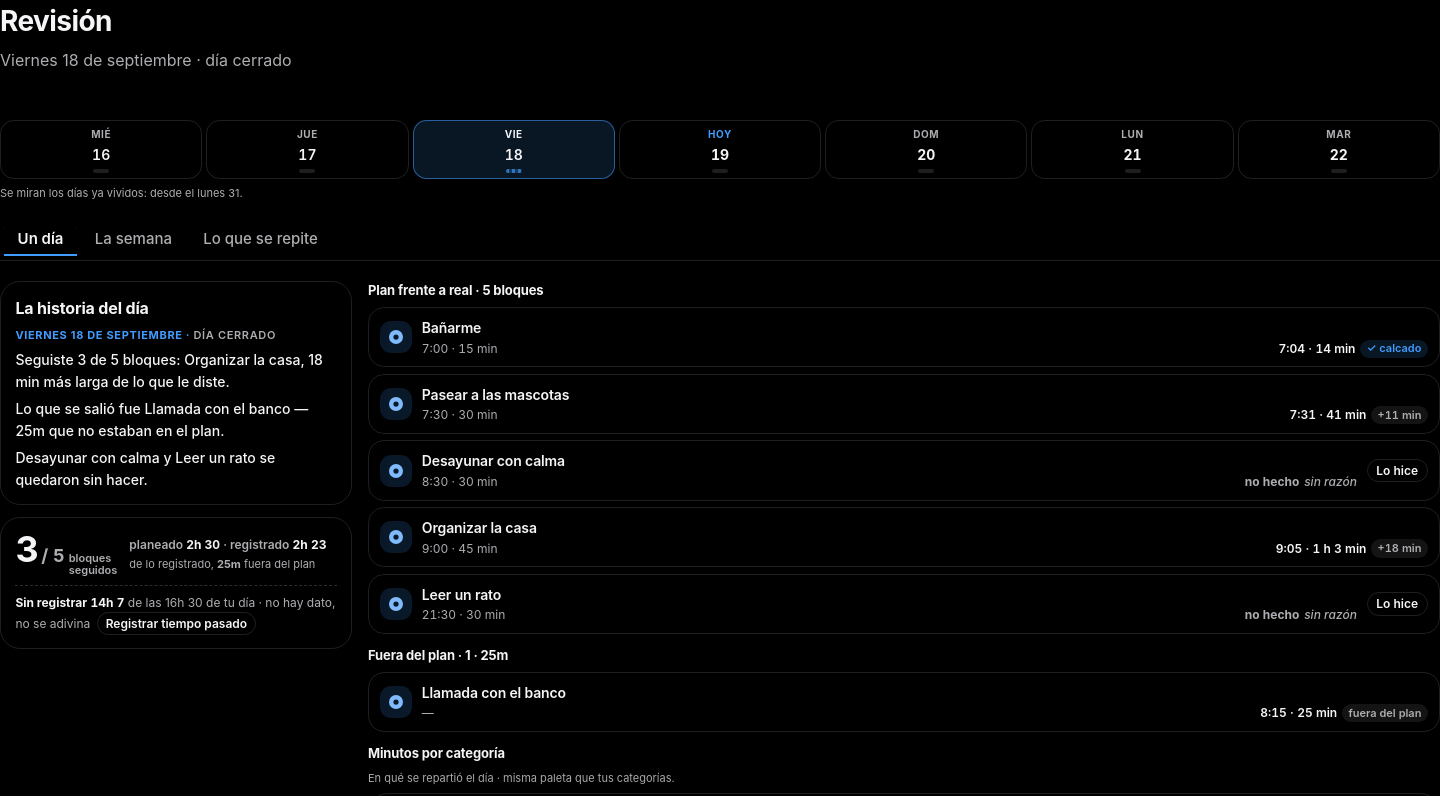
Test: la semana (criterios 45, 46, 47, 48, 49, 51 y 53) › cada fila lleva su titular, su barrita y «registrado de planeado», y **enlaza a ese día** (47, 49)
Click the tab "La semana" at (133, 239), box [81,221,186,256]
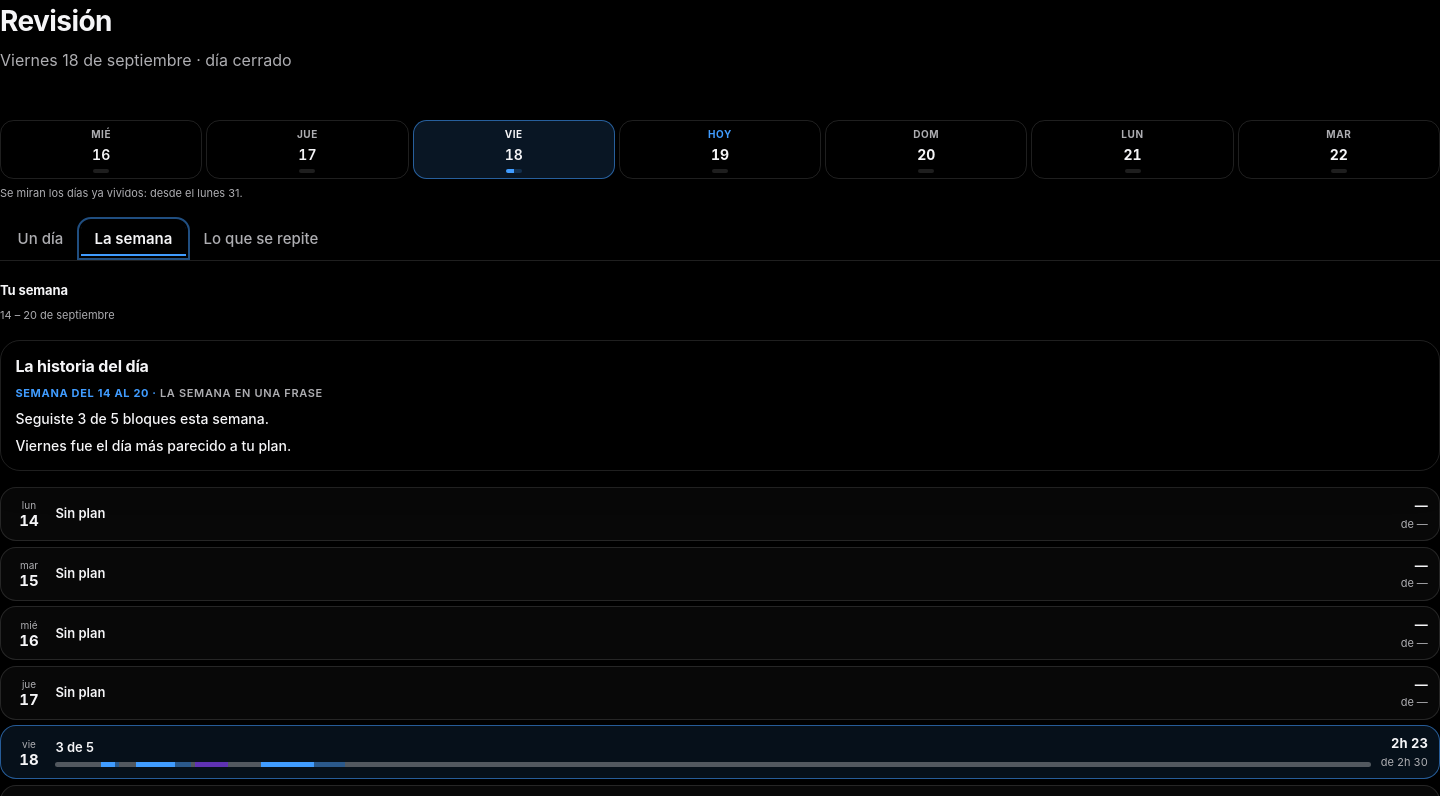
Expected: the text "3 de 5" is shown, [55,739,94,755]
Expected: the 1st text "—" is shown, [1415,496,1428,516]
Expected: the 1st text "Sin plan" is shown, [55,505,105,521]
